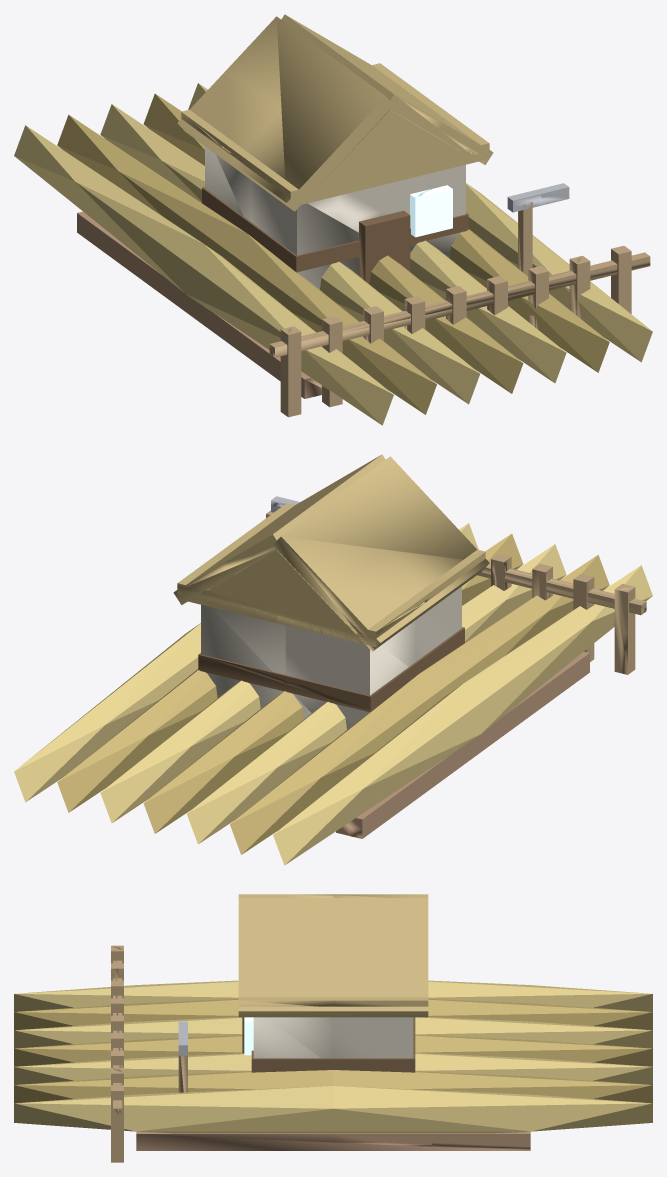
The model's file is farm.glb.
3 views of the same model, one above another, from view 1: azimuth 30°, elevation 25°; view 2: azimuth 150°, elevation 25°; view 3: azimuth 270°, elevation 25° (orthographic). The views are drawn at different scales.
Parts seen in each view (by area): view 1: Furrow0; view 2: Furrow0; view 3: Furrow0.
Boxes of the visible parts, x1=… form: Furrow0: x1=14, y1=14, x2=652, y2=425; Furrow0: x1=14, y1=454, x2=652, y2=865; Furrow0: x1=14, y1=894, x2=652, y2=1162.
Bounding box in the file's own units: 2 × 1.25 × 3.4.
